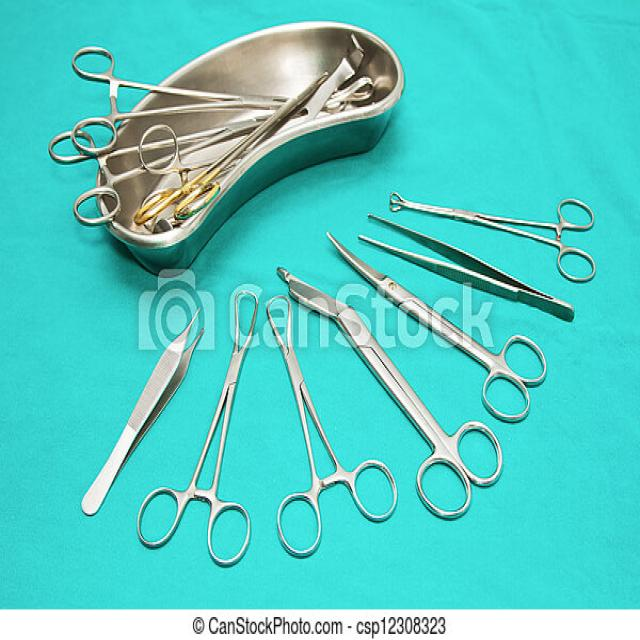B3: (382, 186, 625, 286)
